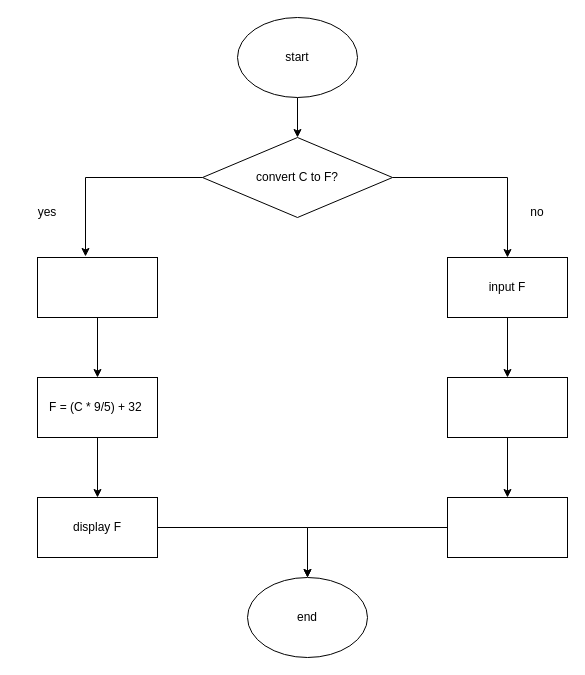
Image size: 585x675. Some labels were removed from this diagram. Here are the shapes that lost their labels. From the top down, the centre of each, then its label:
At point 97,287: "input C".
At point 507,407: "C = (F - 32) * 5/9".
At point 507,527: "display C".
